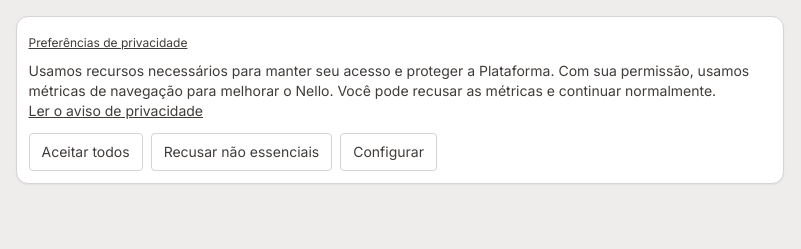
does not report a durable public choice when browser storage rejects it
Click the button "Recusar não essenciais" at (241, 152), box x1=151 y1=133 x2=332 y2=171
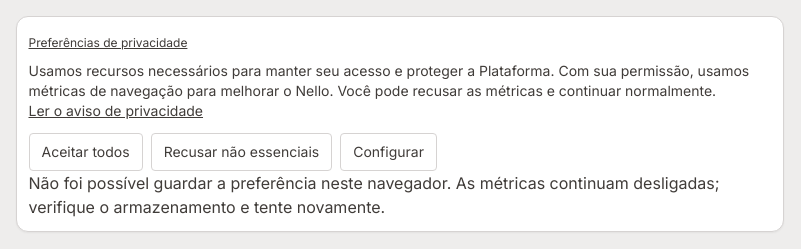
Check: the message shows "Não foi possível guardar a preferência neste navegador. As métricas continuam desligadas; verifique o armazenamento e tente novamente.", box x1=28 y1=173 x2=720 y2=217
